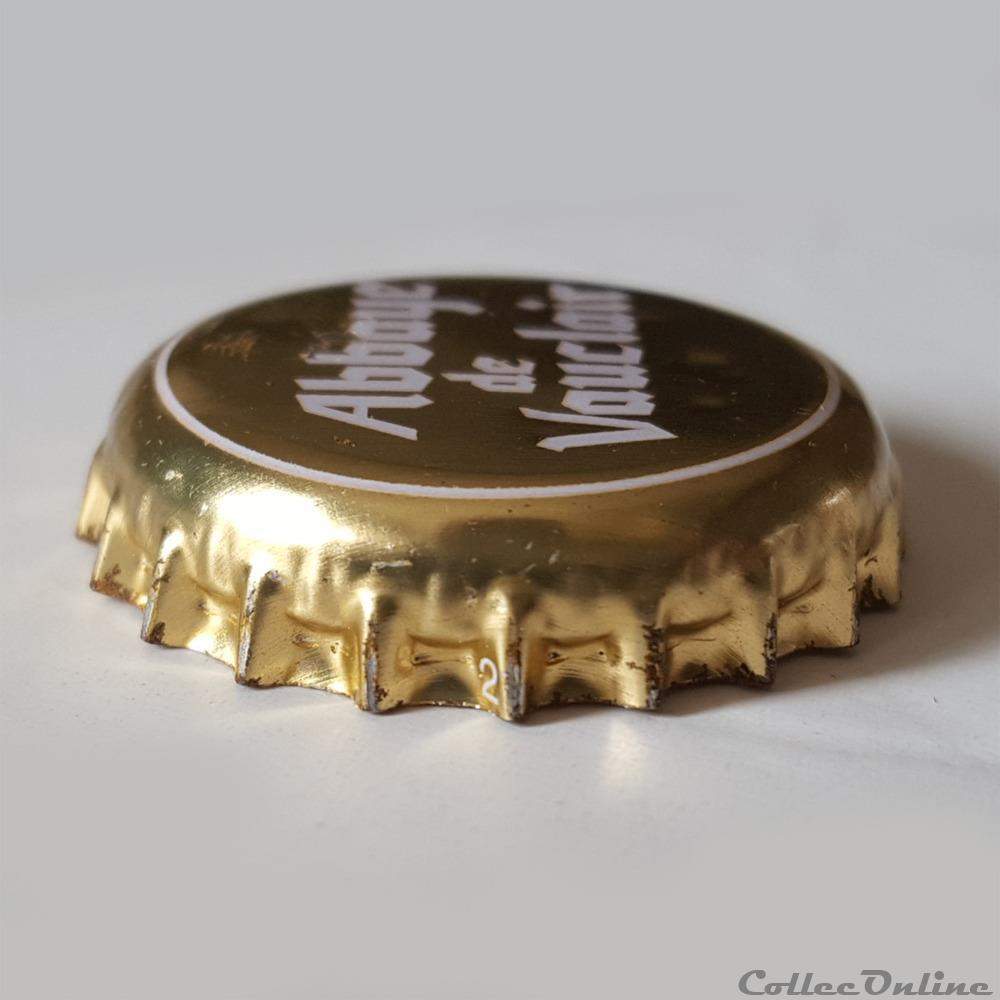metal: (77, 276, 904, 720)
